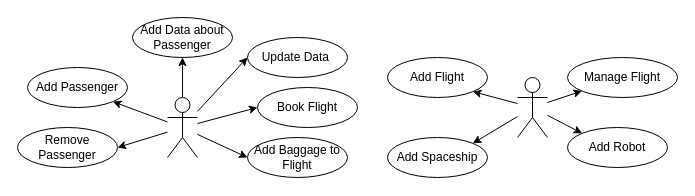
This 695x196 diagram has some shape labels left out. The shapes that lost their labels are listed below. From the top down, each one's centre as x and y in pixels, then its label:
(x=182, y=127): Passenger
(x=532, y=107): Admin
